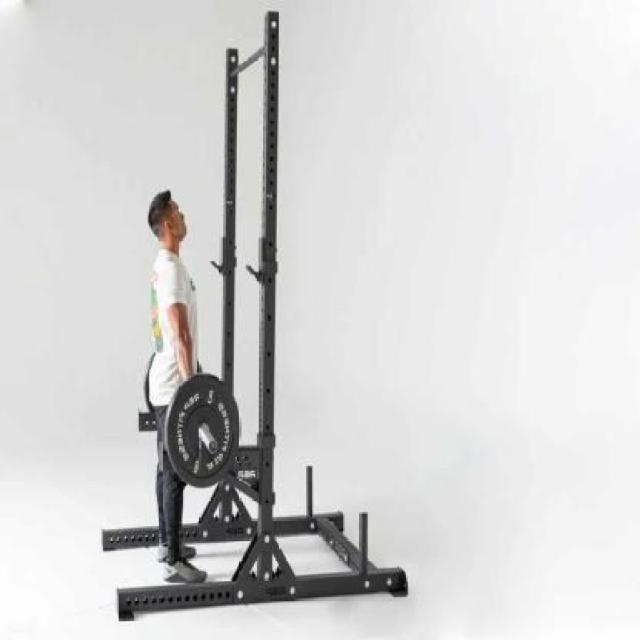Barbell: (202, 432, 224, 458)
